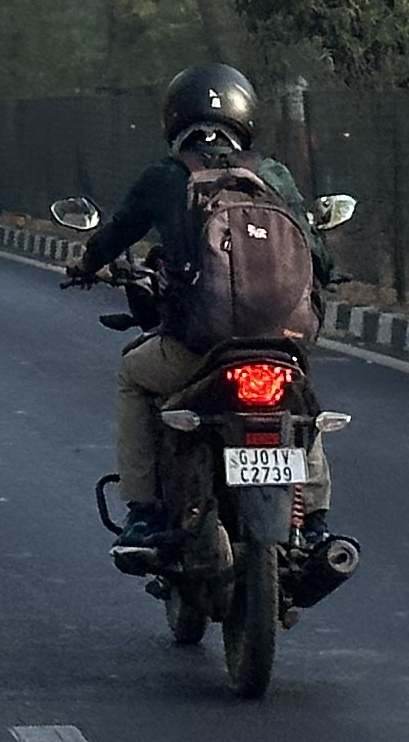BikeWithRider: (41, 52, 376, 705)
Helmet: (152, 54, 268, 160)
